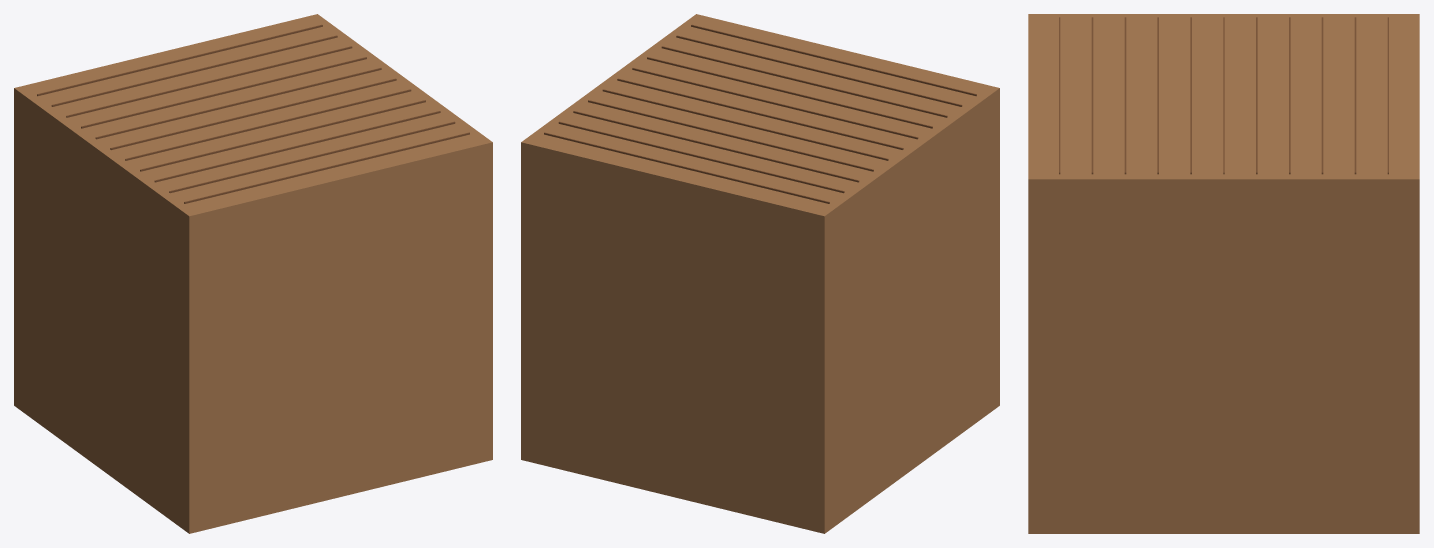
File: wood_desk_top.glb
The picture shows the model from 3 angles, left to right: view 1: azimuth 30°, elevation 25°; view 2: azimuth 150°, elevation 25°; view 3: azimuth 270°, elevation 25°; orthographic projection. The views are drawn at different scales.
Parts seen in each view (by area): view 1: desk_top, grain_05, grain_09, grain_01, grain_02, grain_04, grain_08, grain_00, grain_03, grain_06, grain_07, grain_10; view 2: desk_top, grain_01, grain_05, grain_02, grain_06, grain_08, grain_09, grain_00, grain_03, grain_04, grain_07, grain_10; view 3: desk_top, grain_01, grain_02, grain_08, grain_09.
Part boxes in pixels (box(x1,y1,x2,y2)): desk_top: box(14, 14, 492, 533); grain_05: box(110, 78, 396, 149); grain_09: box(51, 35, 337, 106); grain_01: box(169, 121, 455, 193); grain_02: box(154, 111, 440, 182); grain_04: box(125, 89, 411, 160); grain_08: box(66, 46, 352, 117); grain_00: box(184, 132, 469, 203); grain_03: box(140, 100, 425, 171); grain_06: box(95, 68, 381, 139); grain_07: box(81, 57, 366, 128); grain_10: box(37, 24, 322, 96); desk_top: box(521, 14, 999, 533); grain_01: box(676, 35, 962, 106); grain_05: box(617, 78, 903, 149); grain_02: box(661, 46, 947, 117); grain_06: box(602, 89, 888, 160); grain_08: box(573, 111, 859, 182); grain_09: box(558, 121, 844, 193); grain_00: box(691, 24, 976, 96); grain_03: box(647, 57, 932, 128); grain_04: box(632, 68, 918, 139); grain_07: box(588, 100, 873, 171); grain_10: box(544, 132, 829, 203); desk_top: box(1028, 14, 1419, 533); grain_01: box(1091, 17, 1093, 174); grain_02: box(1124, 17, 1126, 174); grain_08: box(1321, 17, 1323, 174); grain_09: box(1354, 17, 1356, 174).
Bounding box in the file's own units: 1 × 1 × 1.
